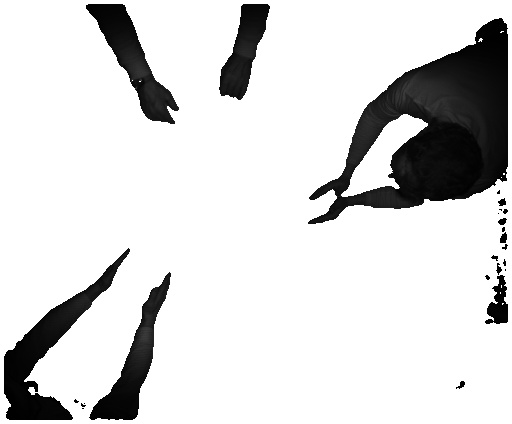hand: (128, 81, 182, 127), (216, 59, 253, 103)
spine: (88, 249, 135, 297), (307, 159, 349, 201), (142, 272, 175, 321), (306, 199, 350, 223)
